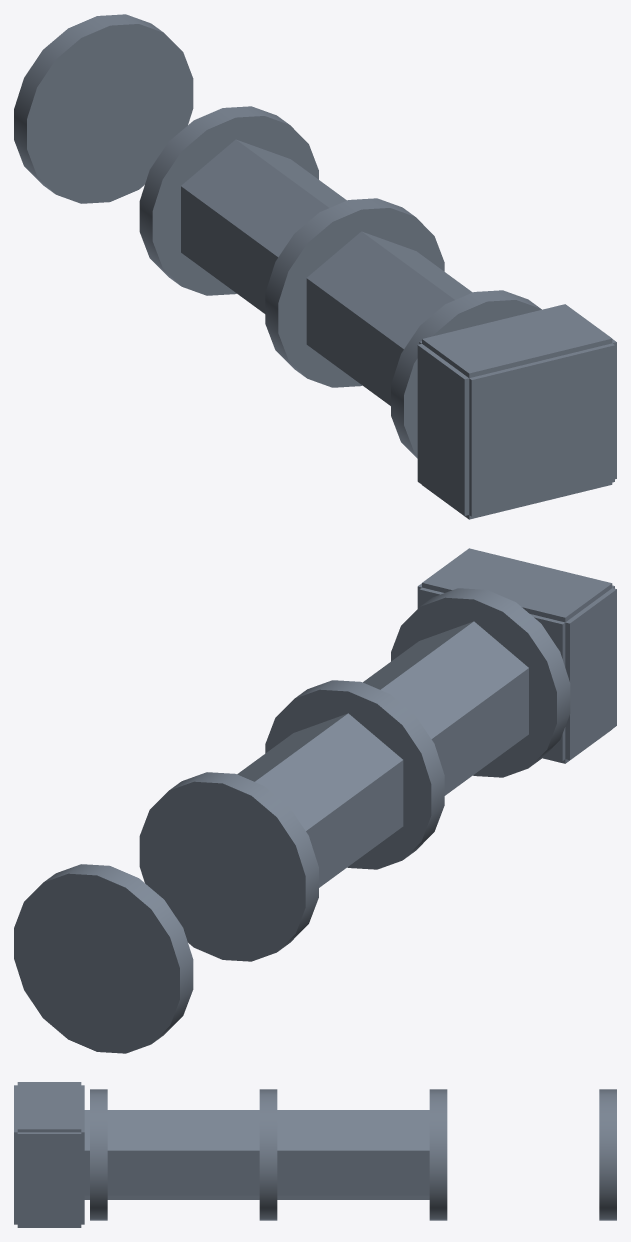
The model's file is ion_cannon_housing.glb.
3 renders of one model, top to bottom at view 1: azimuth 30°, elevation 25°; view 2: azimuth 150°, elevation 25°; view 3: azimuth 270°, elevation 25°, orthographic. The views are drawn at different scales.
Parts seen in each view (by area): view 1: ion_cannon_housing; view 2: ion_cannon_housing; view 3: ion_cannon_housing.
Boxes of the visible parts, x1=… form: ion_cannon_housing: x1=14, y1=14, x2=616, y2=519; ion_cannon_housing: x1=14, y1=548, x2=616, y2=1053; ion_cannon_housing: x1=14, y1=1082, x2=616, y2=1227.
Bounding box in the file's own units: 0.3663 × 0.372 × 1.71.
